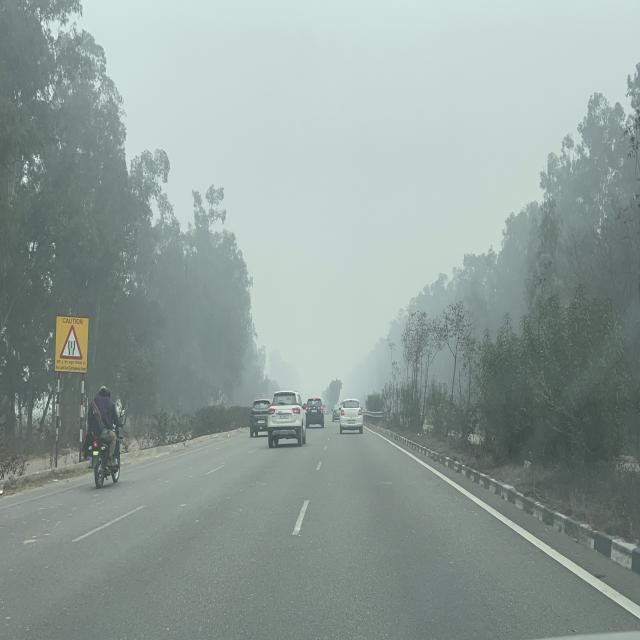ROAD_WIDENS_AHEAD: (59, 324, 84, 360)
